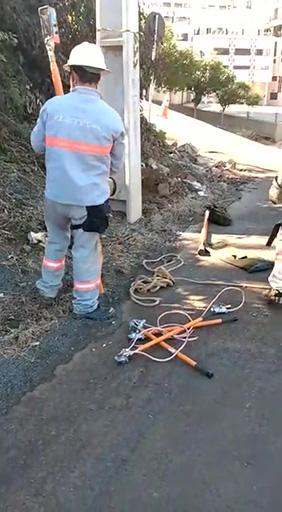Detector_Tensao_Contato: (36, 5, 61, 47)
